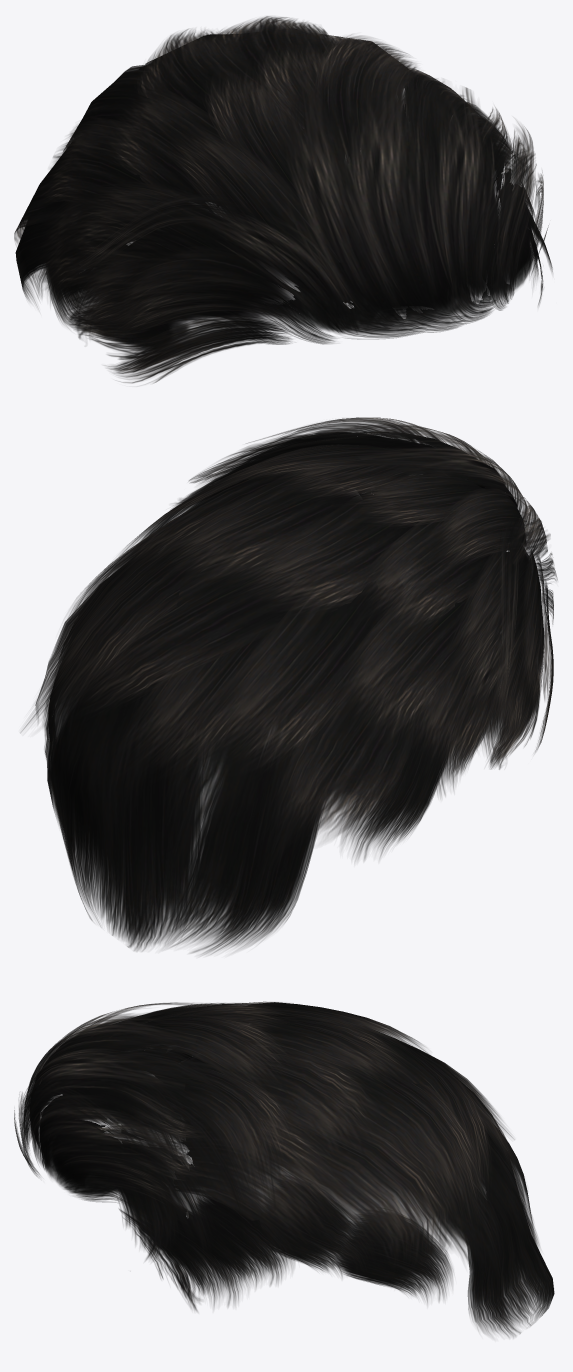
The model's file is Oblong_Straight_SlickBack.glb.
3 views of the same model, one above another, from view 1: azimuth 30°, elevation 25°; view 2: azimuth 150°, elevation 25°; view 3: azimuth 270°, elevation 25° (orthographic). The views are drawn at different scales.
Parts seen in each view (by area): view 1: slick_back; view 2: slick_back; view 3: slick_back.
Boxes of the visible parts, x1=… form: slick_back: x1=14, y1=16, x2=552, y2=383; slick_back: x1=21, y1=417, x2=557, y2=955; slick_back: x1=14, y1=1001, x2=554, y2=1337.
Bounding box in the file's own units: 0.1634 × 0.1421 × 0.2184.
Materials: 1 (1 with a texture image).
